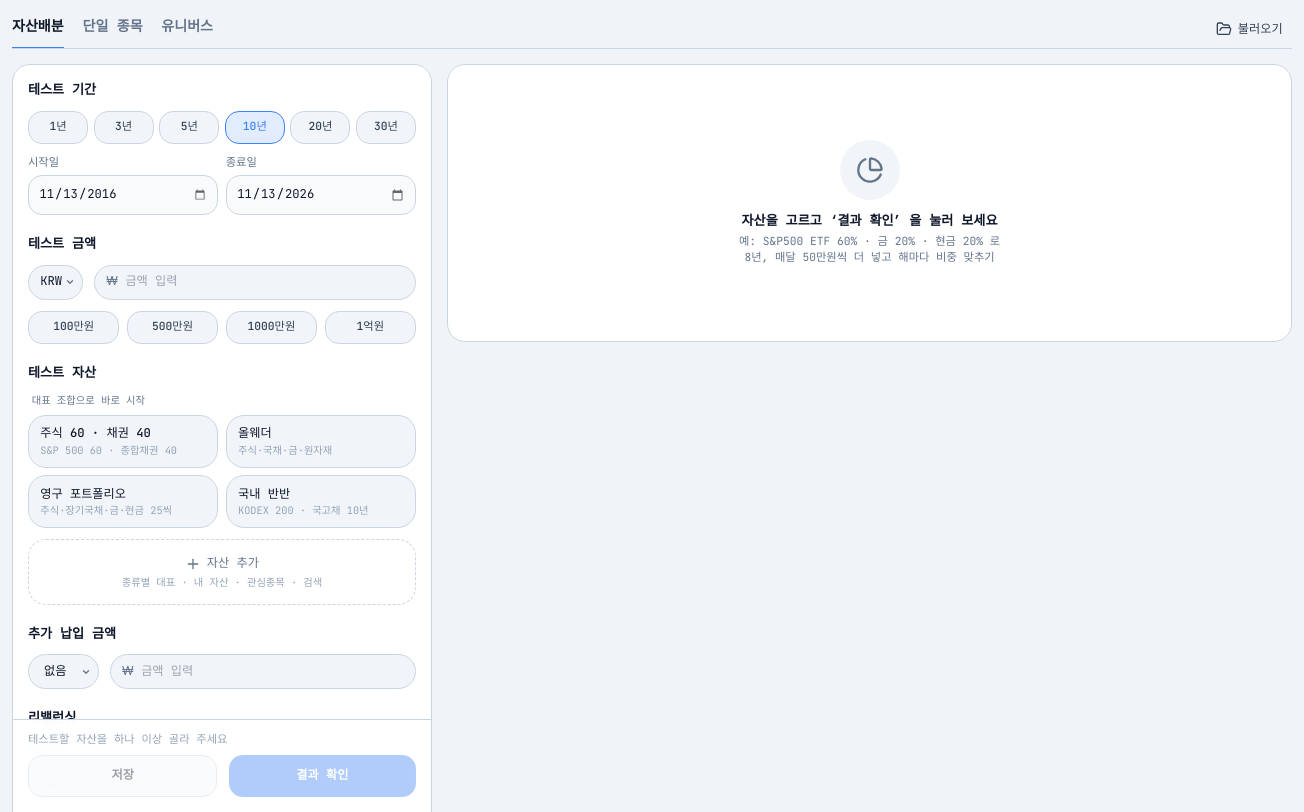
Test case: 유니버스는 생존 편향을 말한다 › 결과 위에 경고가 뜬다
Click the tab "유니버스" at (187, 30), box [161, 12, 213, 49]
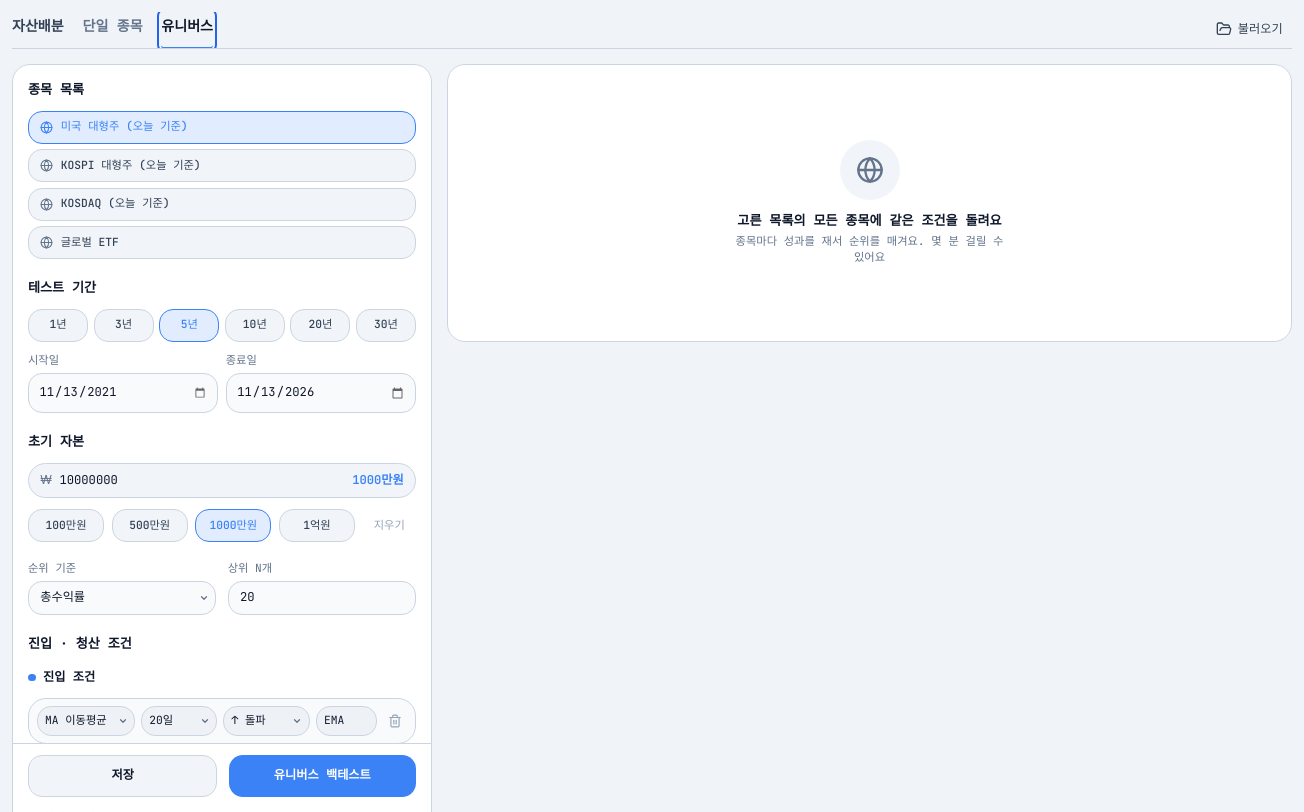
Click the button "유니버스 백테스트" at (322, 776), box [229, 755, 416, 797]
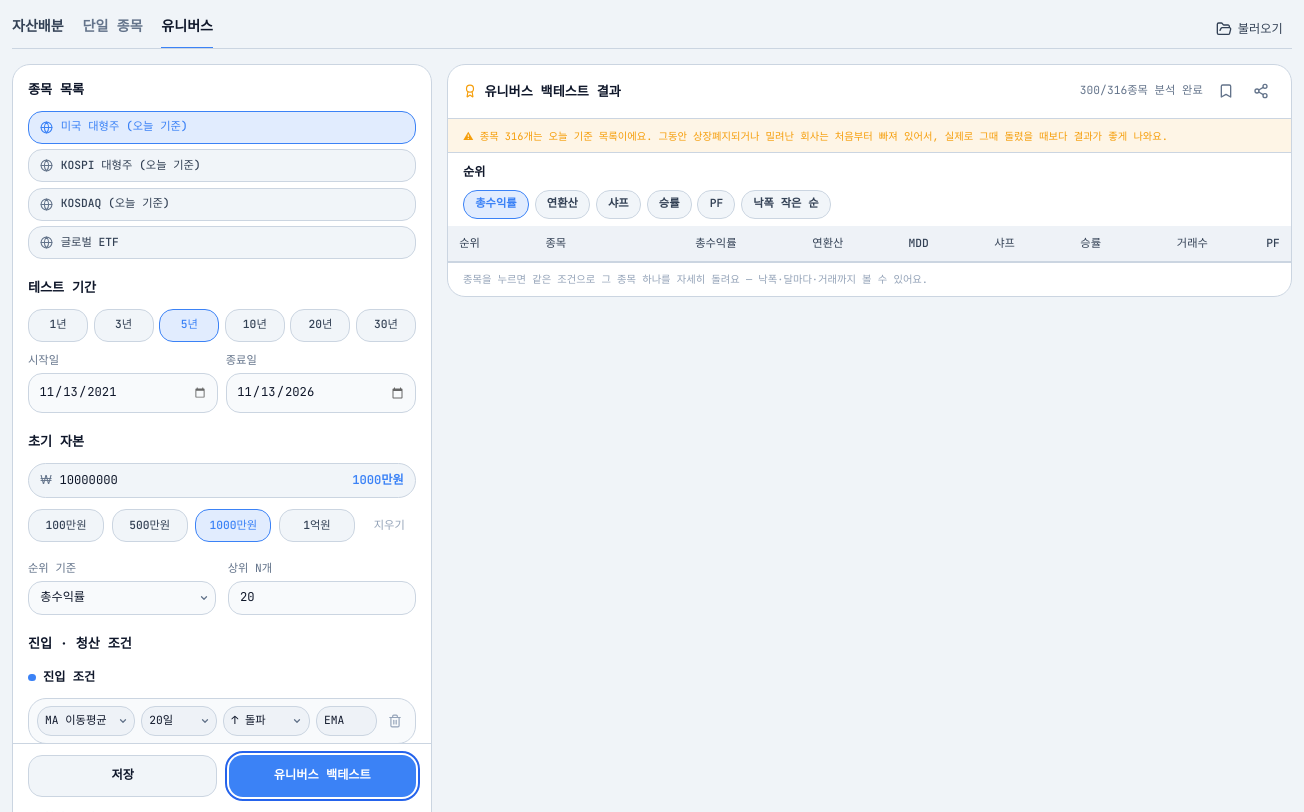
Check: the text "상장폐지" is shown, box [480, 129, 1168, 143]
